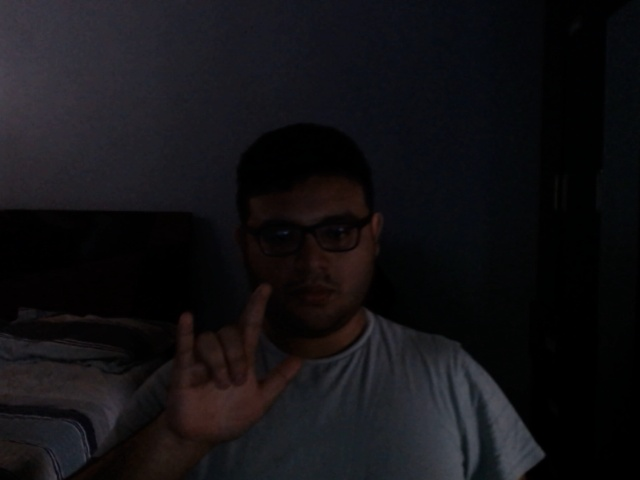I love you: (172, 283, 304, 448)
